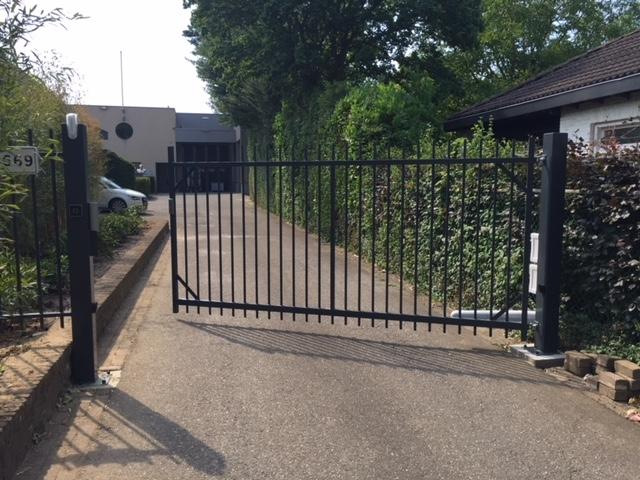obstacle: (74, 56, 640, 325)
